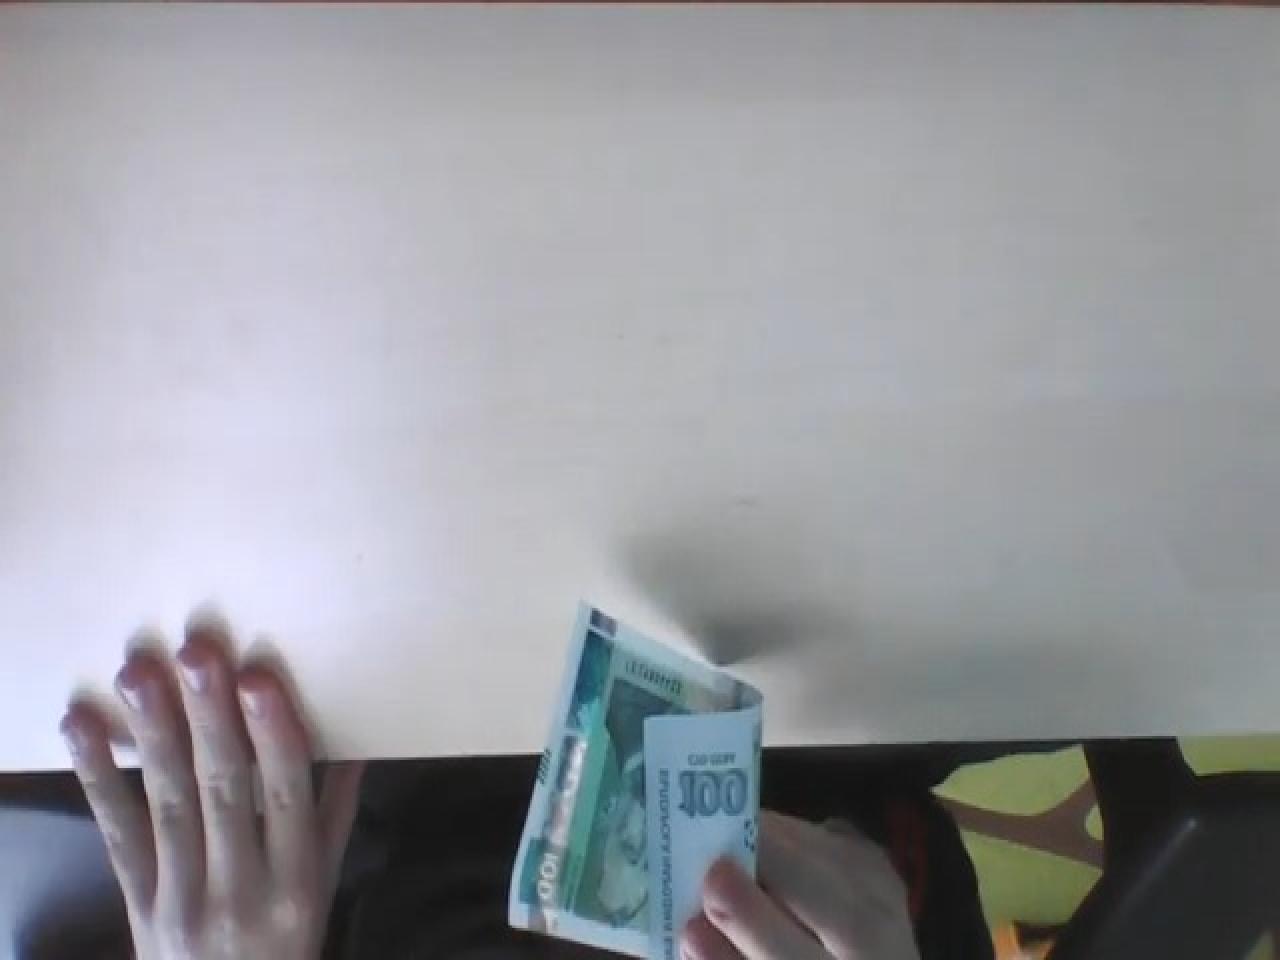100leva: (506, 605, 764, 960), (674, 765, 750, 824)
